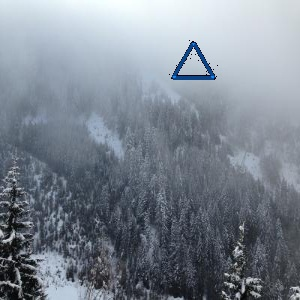triangle: (168, 37, 216, 83)
